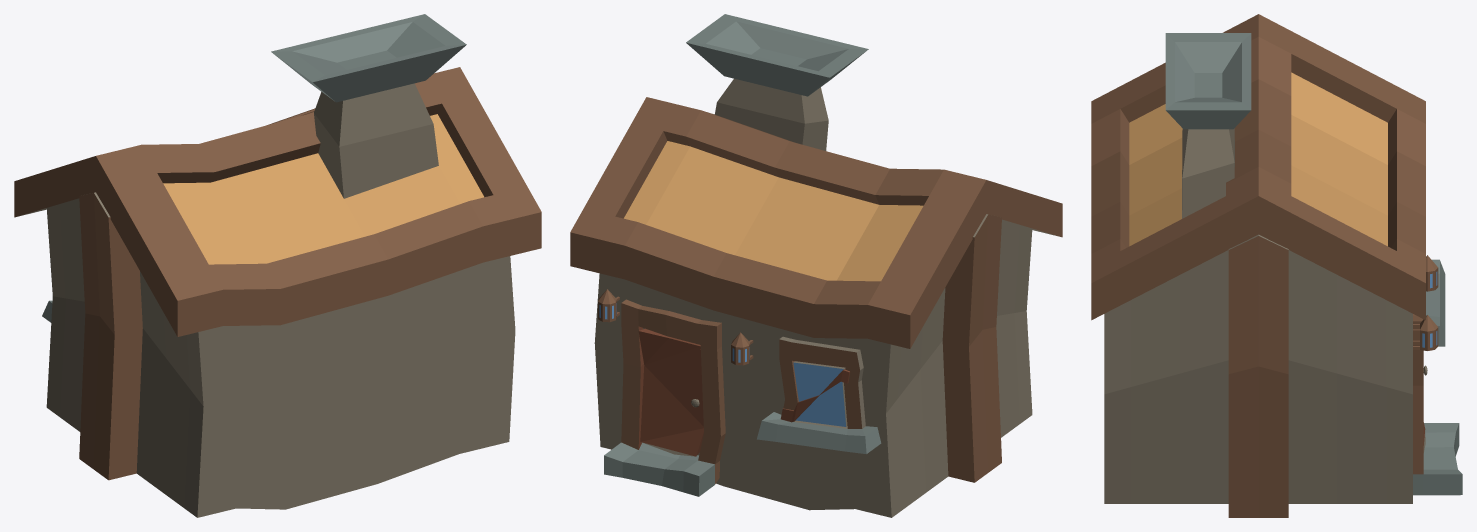
File: C_Casinha1.fbx
The picture shows the model from 3 angles, left to right: view 1: azimuth 30°, elevation 25°; view 2: azimuth 150°, elevation 25°; view 3: azimuth 270°, elevation 25°; orthographic projection. The views are drawn at different scales.
Parts seen in each view (by area): view 1: Cube; view 2: Cube; view 3: Cube.
Part boxes in pixels (<box>): Cube: <box>14,14,541,517</box>; Cube: <box>570,14,1062,517</box>; Cube: <box>1091,14,1462,517</box>.
Size of the model in its own units: 577 by 576 by 484.
